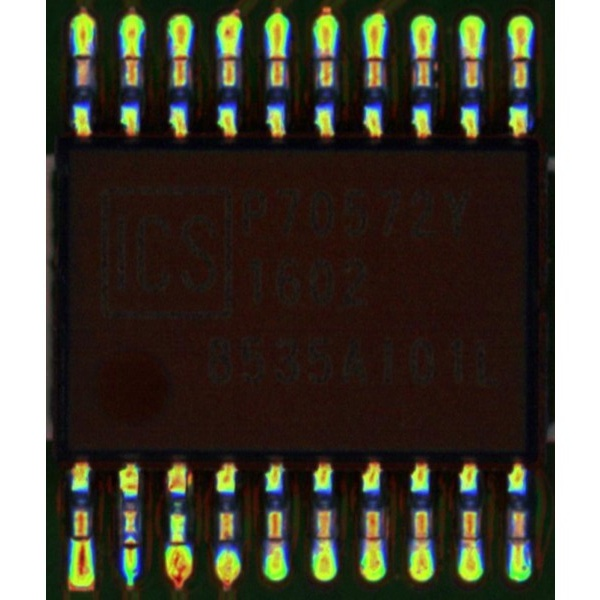Bad_podu: (270, 41, 282, 76), (75, 524, 85, 566), (366, 525, 376, 562), (512, 526, 522, 562), (320, 43, 331, 74), (125, 532, 134, 569), (514, 46, 525, 74), (127, 42, 136, 73)
